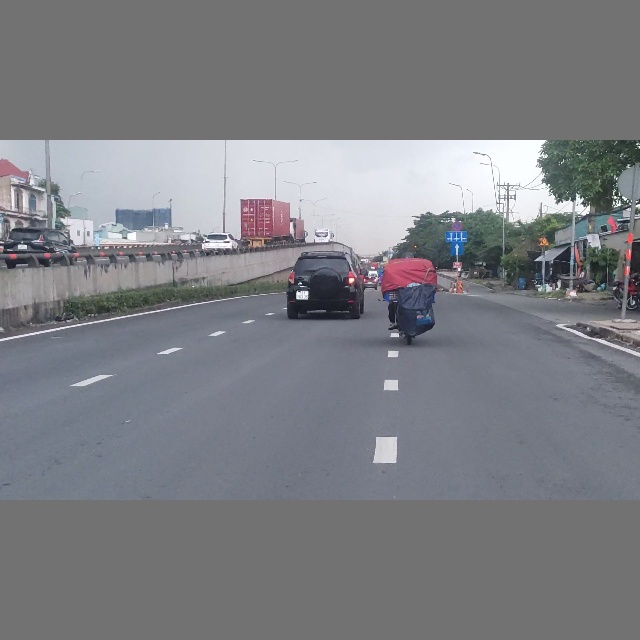I.407a: (450, 242, 465, 256)
P.130: (452, 222, 462, 231)
W.246a: (539, 236, 549, 246)
